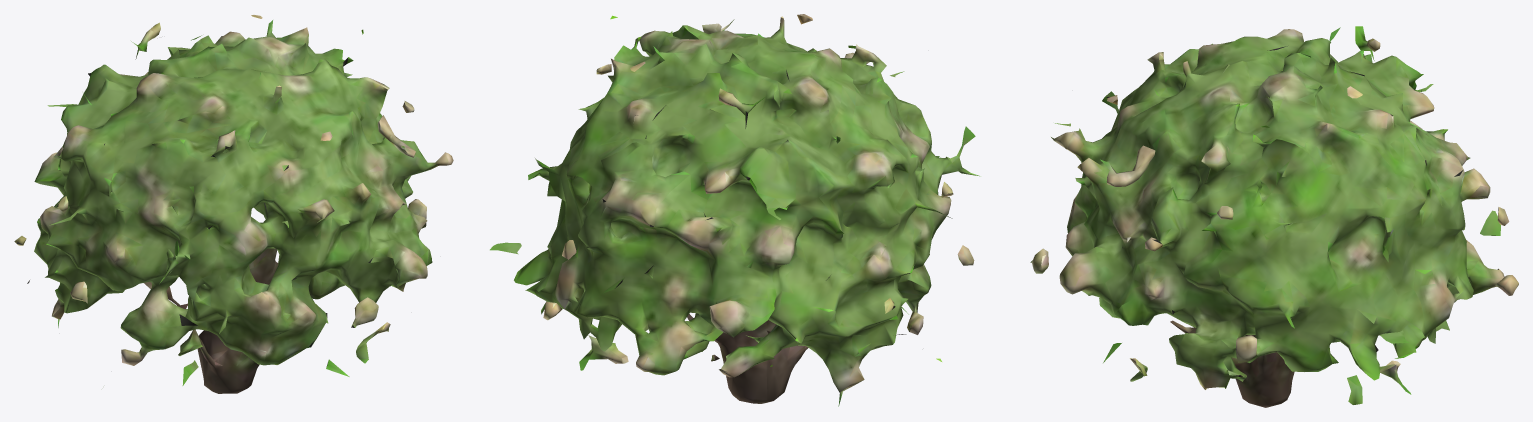
The model's file is BushWhiteFlowers.glb.
3 views of the same model, side by side, from view 1: azimuth 30°, elevation 25°; view 2: azimuth 150°, elevation 25°; view 3: azimuth 270°, elevation 25° (orthographic). The views are drawn at different scales.
Parts seen in each view (by area): view 1: BushWhiteFlowers; view 2: BushWhiteFlowers; view 3: BushWhiteFlowers.
Part boxes in pixels (left/top/right/bottom): BushWhiteFlowers: left=14, top=15, right=453, bottom=393; BushWhiteFlowers: left=490, top=14, right=980, bottom=406; BushWhiteFlowers: left=1030, top=26, right=1518, bottom=407.
Size of the model in its own units: 1.22 by 1.05 by 1.26.
Materials: 1 (1 with a texture image).
